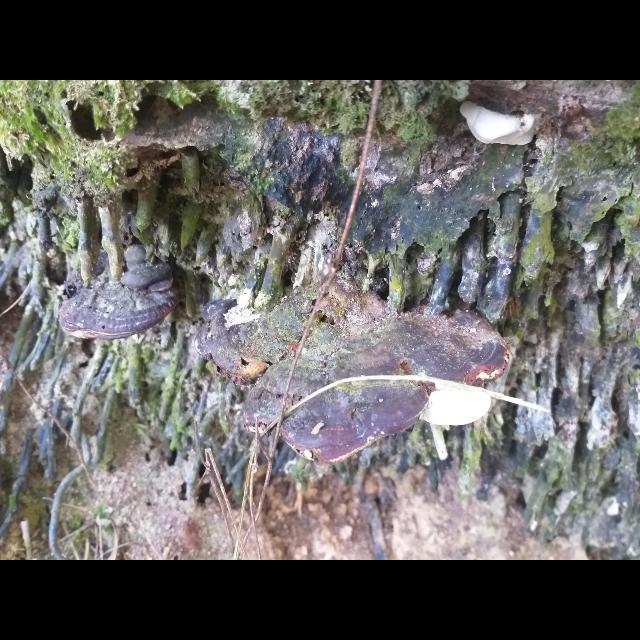ganoderma: (193, 298, 515, 466), (57, 254, 177, 346)
primordium: (459, 101, 538, 148)
